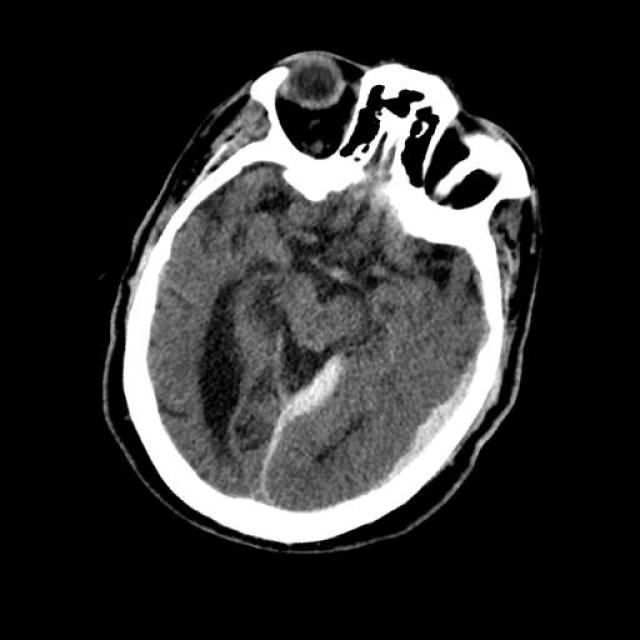Subdural: (198, 326, 354, 534), (367, 320, 502, 530)
